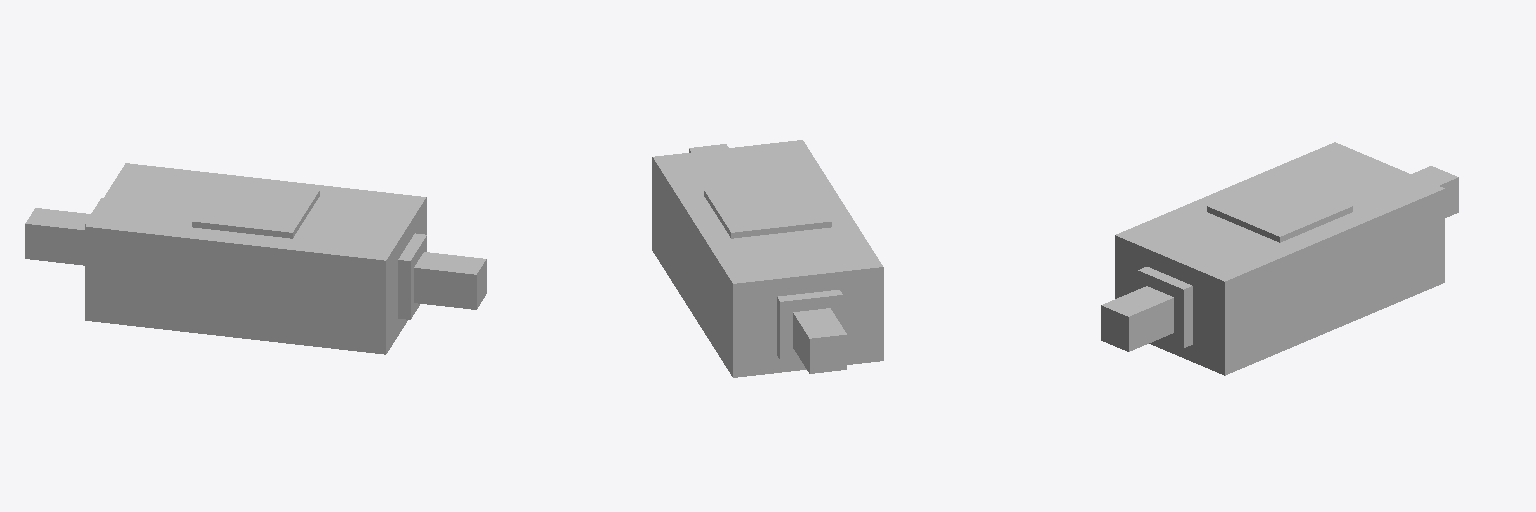
File: enginegearbox.obj
3 views of the same model, side by side, from view 1: azimuth 30°, elevation 25°; view 2: azimuth 150°, elevation 25°; view 3: azimuth 270°, elevation 25° (orthographic).
Parts seen in each view (by area): view 1: cube; view 2: cube; view 3: cube.
Boxes of the visible parts, x1=… form: cube: x1=25, y1=163, x2=486, y2=354; cube: x1=652, y1=140, x2=883, y2=377; cube: x1=1101, y1=142, x2=1458, y2=375.
Size of the model in its own units: 0.5602 by 0.1727 by 0.5602.